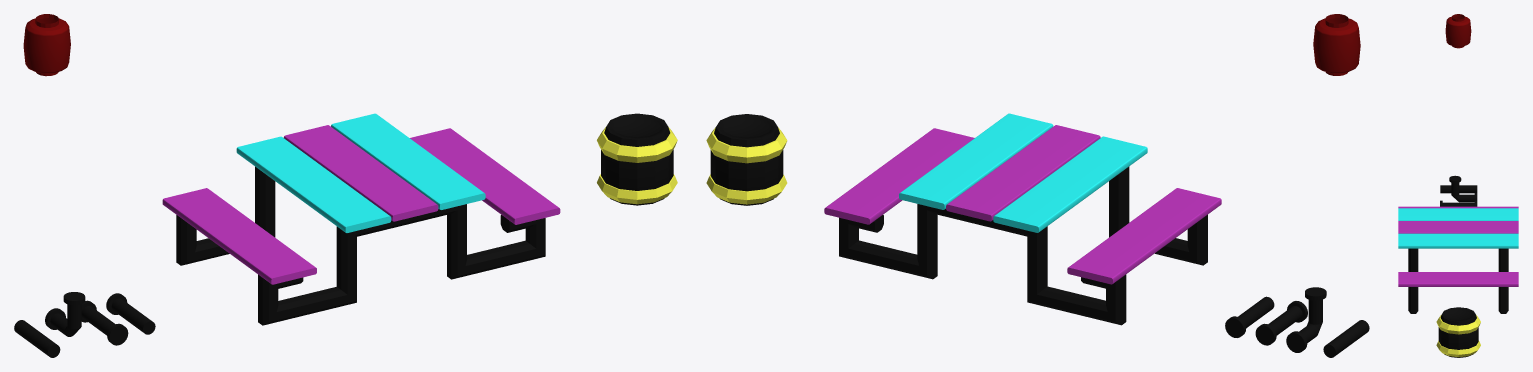
File: Enviroment_Parts.obj
The picture shows the model from 3 angles, left to right: view 1: azimuth 30°, elevation 25°; view 2: azimuth 150°, elevation 25°; view 3: azimuth 270°, elevation 25°; orthographic projection. The views are drawn at different scales.
Parts seen in each view (by area): view 1: Leg2 Table, Table pCube3 Seats, Table Seats pCube5, Table Seats pCube2, Table Seats pCube1, Table Seats pCube4, Body barrel, Table Leg1, Lamp, barrel Ring, Pipes Curve, barrel Ring1 (+3 smaller); view 2: Table Leg1, Table pCube3 Seats, Table Seats pCube5, Table Seats pCube2, Table Seats pCube1, Table Seats pCube4, Body barrel, Leg2 Table, Lamp, barrel Ring, Pipes Curve, barrel Ring1 (+3 smaller); view 3: Table Seats pCube1, Table Seats pCube4, Table pCube3 Seats, Table Seats pCube2, Body barrel, Lamp, Leg2 Table, Table Leg1, barrel Ring, Pipes Curve, Table Seats pCube5, barrel Ring1 (+2 smaller).
Part boxes in pixels (box(x1,y1,x2,y2)): Leg2 Table: box(258, 204, 545, 325); Table pCube3 Seats: box(236, 136, 391, 232); Table Seats pCube5: box(162, 188, 316, 284); Table Seats pCube2: box(283, 125, 438, 221); Table Seats pCube1: box(331, 113, 485, 209); Table Seats pCube4: box(410, 128, 560, 224); Body barrel: box(601, 113, 673, 205); Table Leg1: box(176, 166, 275, 265); Lamp: box(23, 14, 70, 76); barrel Ring: box(597, 126, 677, 162); Pipes Curve: box(45, 292, 85, 336); barrel Ring1: box(597, 174, 677, 204); Table Leg1: box(839, 204, 1126, 325); Table pCube3 Seats: box(993, 136, 1147, 232); Table Seats pCube5: box(1067, 188, 1221, 284); Table Seats pCube2: box(946, 125, 1100, 221); Table Seats pCube1: box(899, 113, 1053, 209); Table Seats pCube4: box(824, 128, 974, 224); Body barrel: box(710, 114, 783, 205); Leg2 Table: box(1109, 166, 1207, 265); Lamp: box(1313, 14, 1360, 75); barrel Ring: box(706, 127, 787, 163); Pipes Curve: box(1286, 287, 1326, 352); barrel Ring1: box(706, 174, 787, 204); Table Seats pCube1: box(1398, 233, 1518, 248); Table Seats pCube4: box(1398, 272, 1518, 286); Table pCube3 Seats: box(1398, 208, 1518, 220); Table Seats pCube2: box(1398, 221, 1518, 233); Body barrel: box(1438, 307, 1478, 357); Lamp: box(1445, 14, 1471, 48); Leg2 Table: box(1408, 248, 1418, 313); Table Leg1: box(1498, 248, 1508, 313); barrel Ring: box(1436, 315, 1480, 334); Pipes Curve: box(1449, 175, 1477, 202); Table Seats pCube5: box(1398, 206, 1518, 208); barrel Ring1: box(1436, 340, 1480, 357).
Bounding box in the file's own units: 20.54 × 9.95 × 6.
